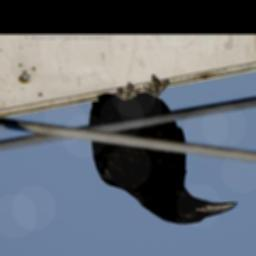Crow: (87, 75, 240, 226)
